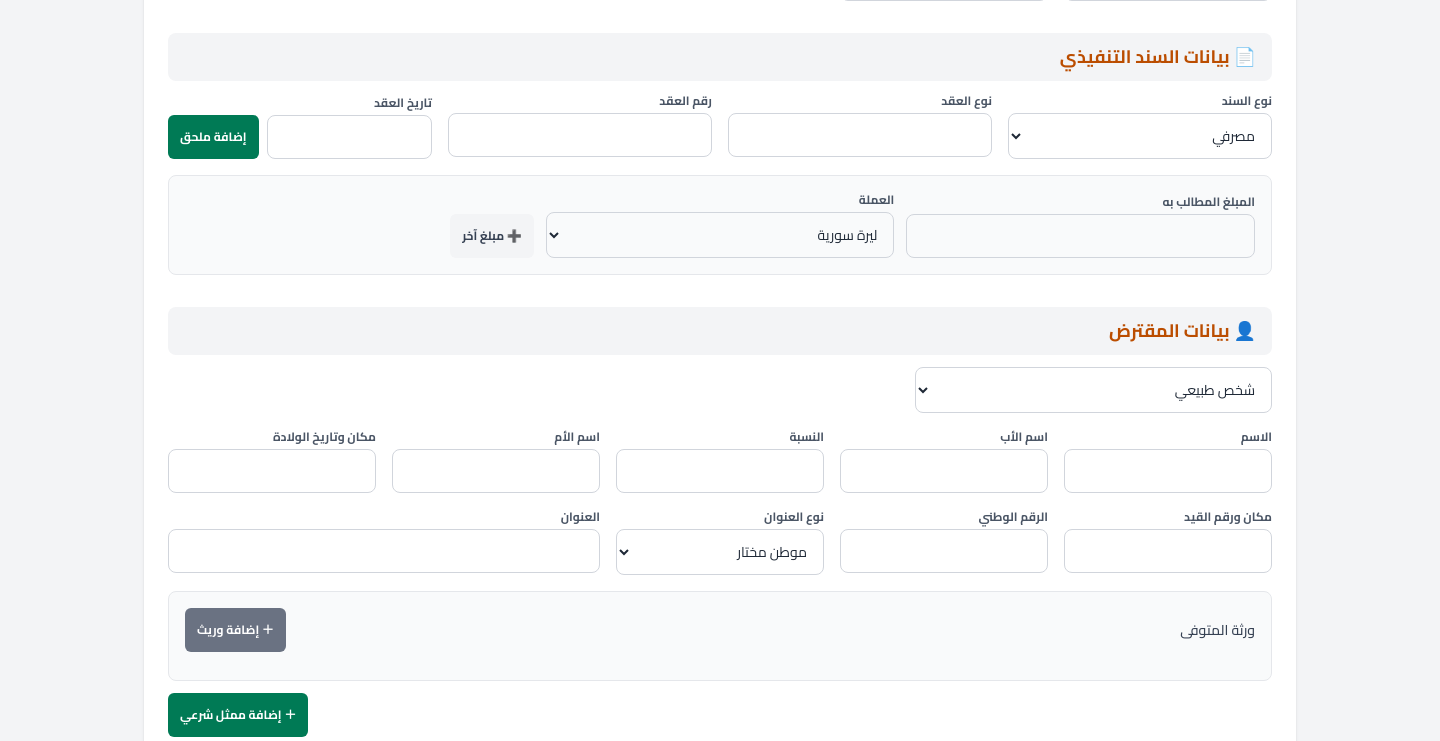
Test: DocumentForm · ربط الأطراف بالسجل › يبدّل المقترض إلى «شخص اعتباري» فيعرض حقوله ويخفي الهوية الطبيعية
(page scrolled)
Note: قائمة «نوع الطرف» للمقترض تظهر أولًا في DOM (قبل بطاقة الكفيل الأولى).
Select "شخص اعتباري" in the dropdown named "نوع الطرف": [1093, 390] box x1=915 y1=367 x2=1272 y2=413
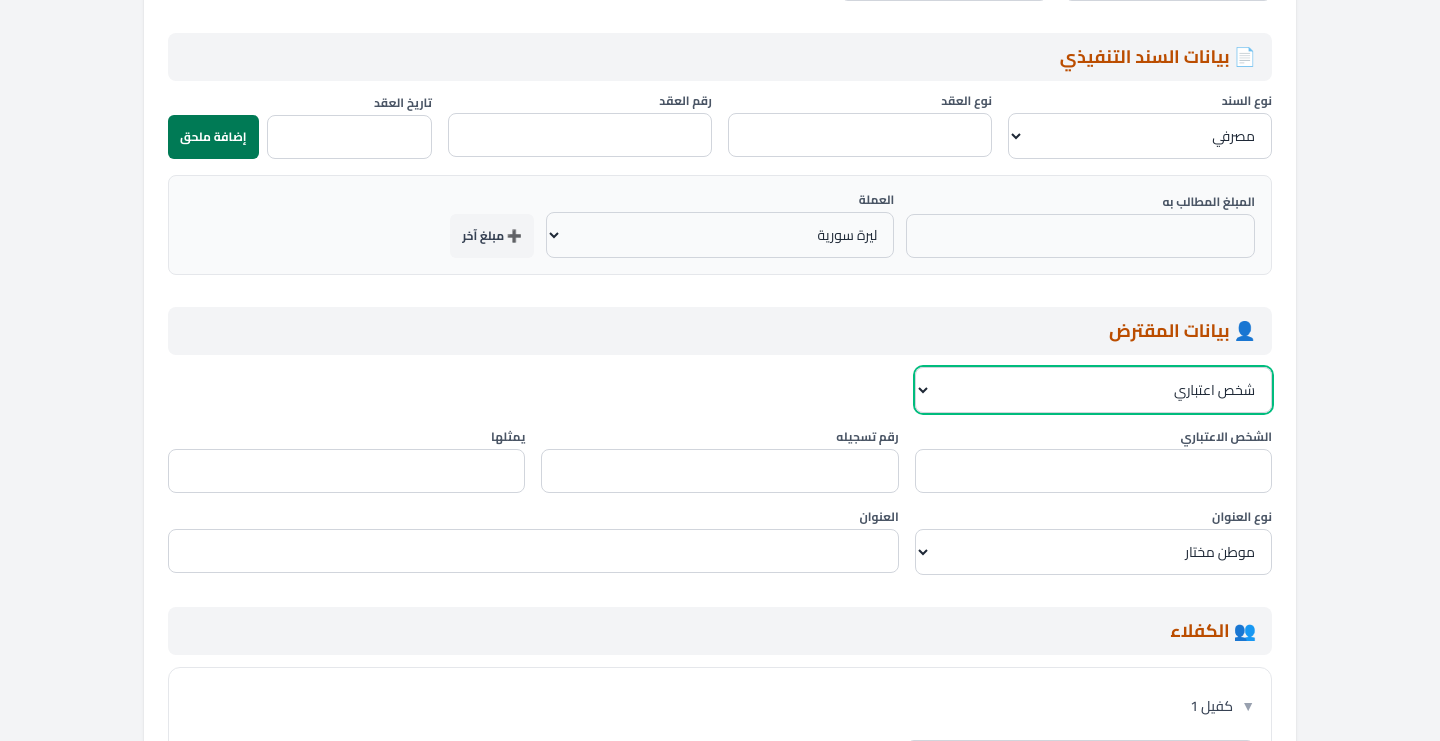
Expected: the field labelled "الشخص الاعتباري" is shown, x1=915 y1=449 x2=1272 y2=493
Expected: the field labelled "رقم تسجيله" is shown, x1=541 y1=449 x2=899 y2=493
Expected: the field labelled "يمثلها" is shown, x1=168 y1=449 x2=525 y2=493
